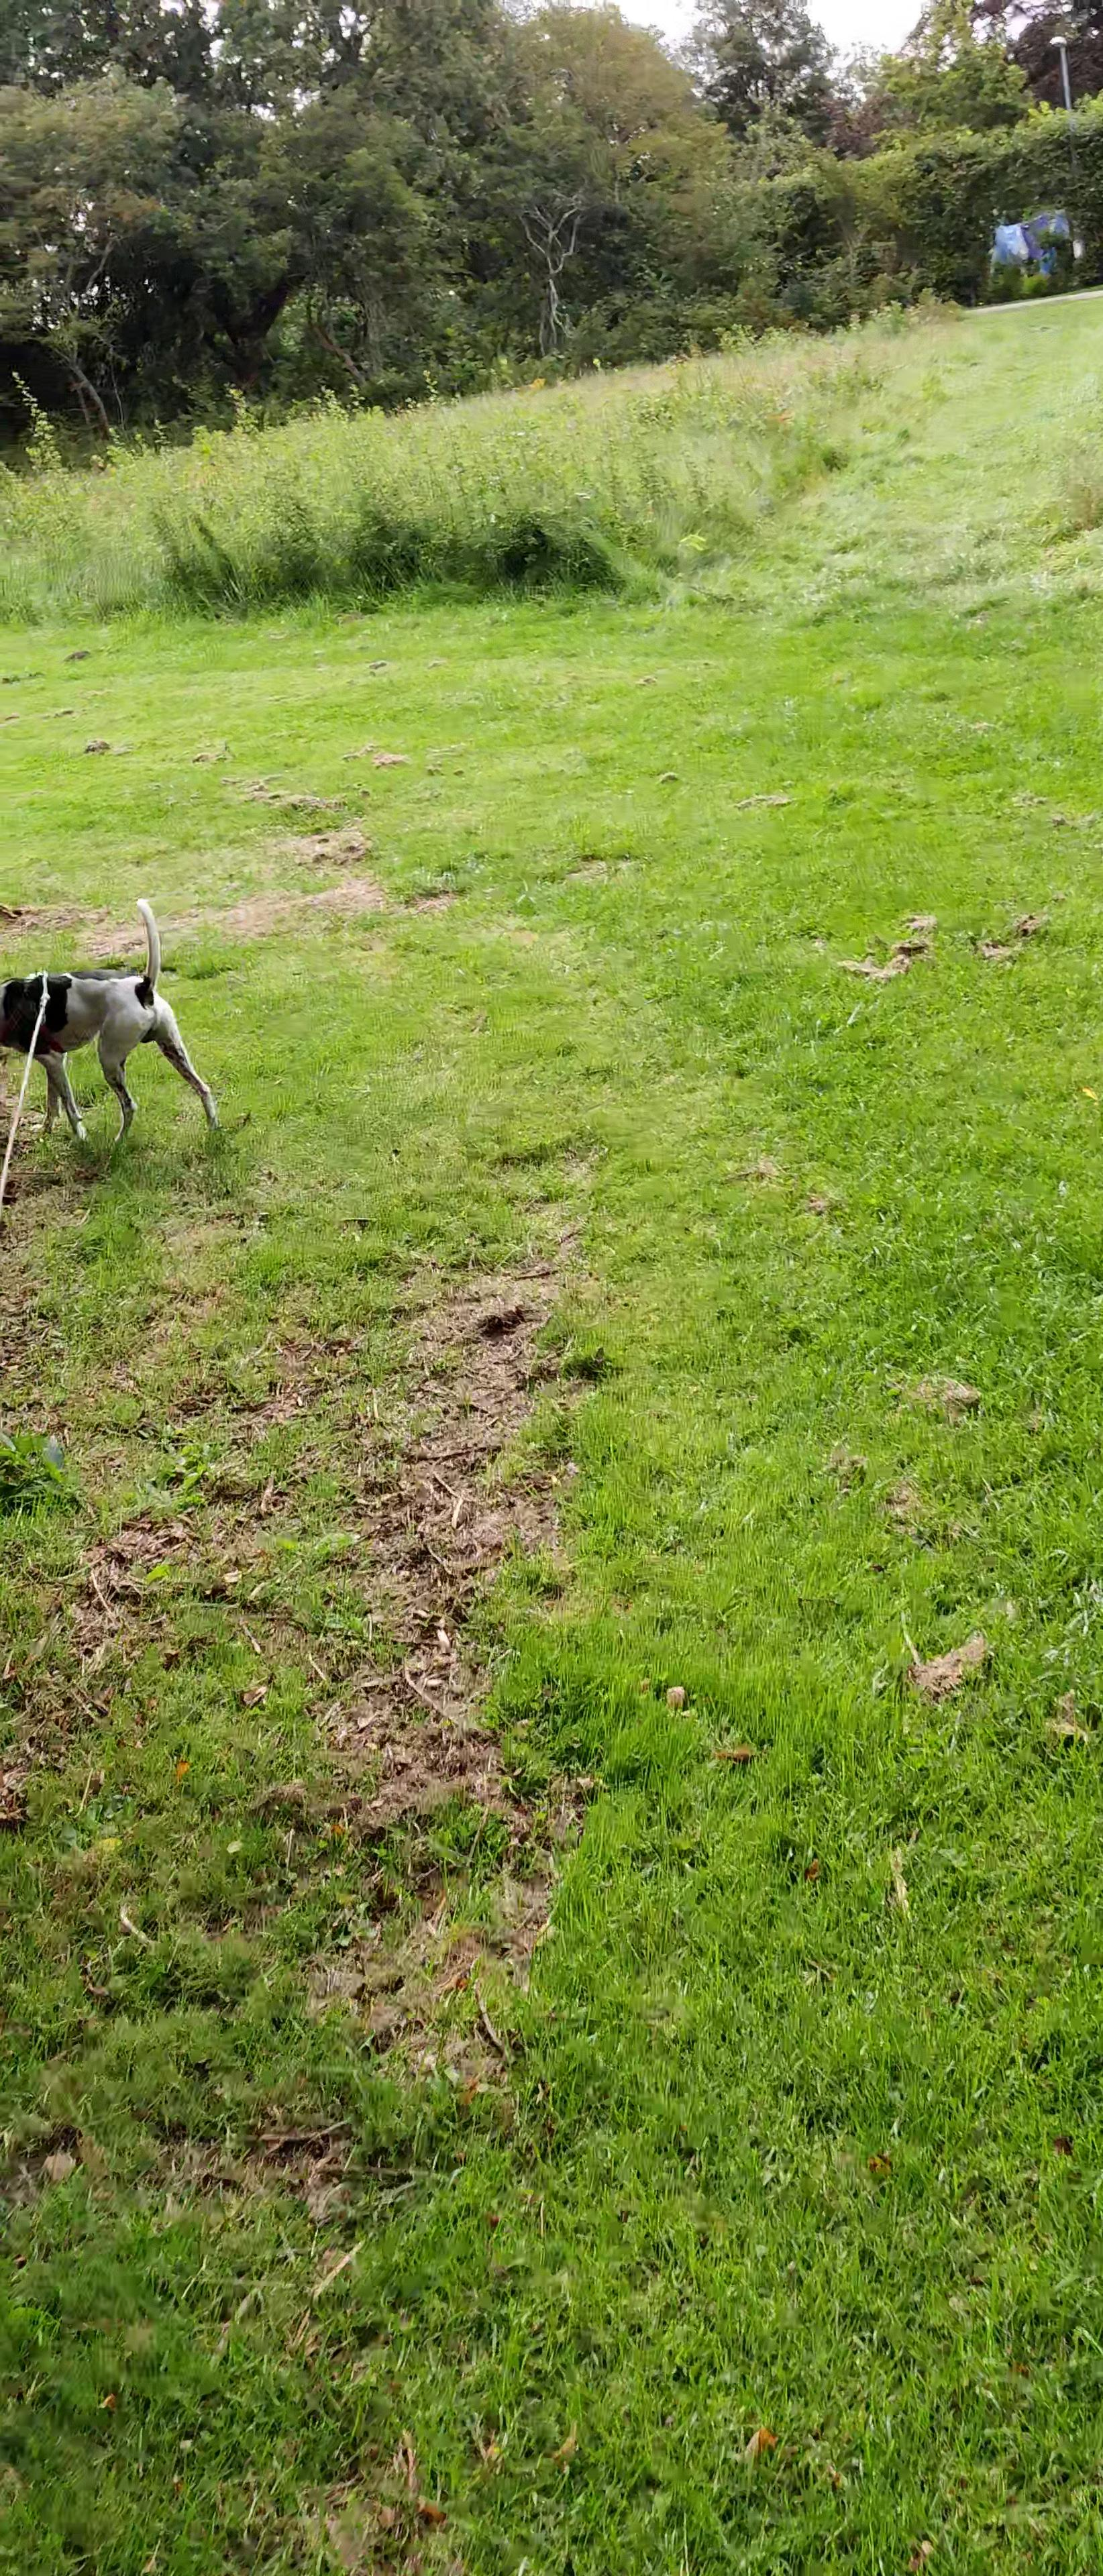Dog: (28, 885, 228, 1148)
